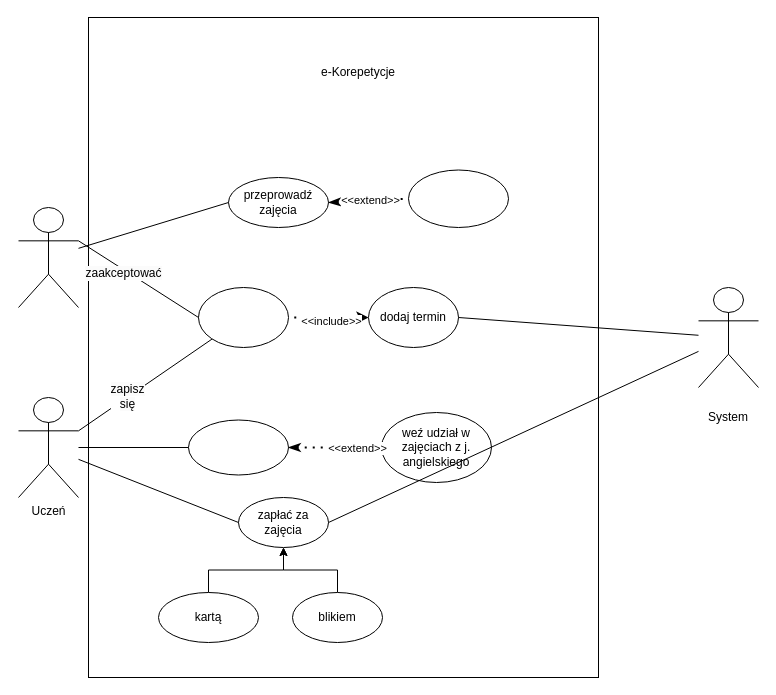
Some shapes in this 776 by 695 pixel diagram are drawn without their labels. The shapes that lost their labels are listed below. From the top down, each one's centre as x and y in pixels, then its label:
(458,198): przeprowadź zajęcia z j. angielskiego
(48,257): Korepetytor
(243,317): dodaj zajęcia
(238,447): weź udział w zajęciach
